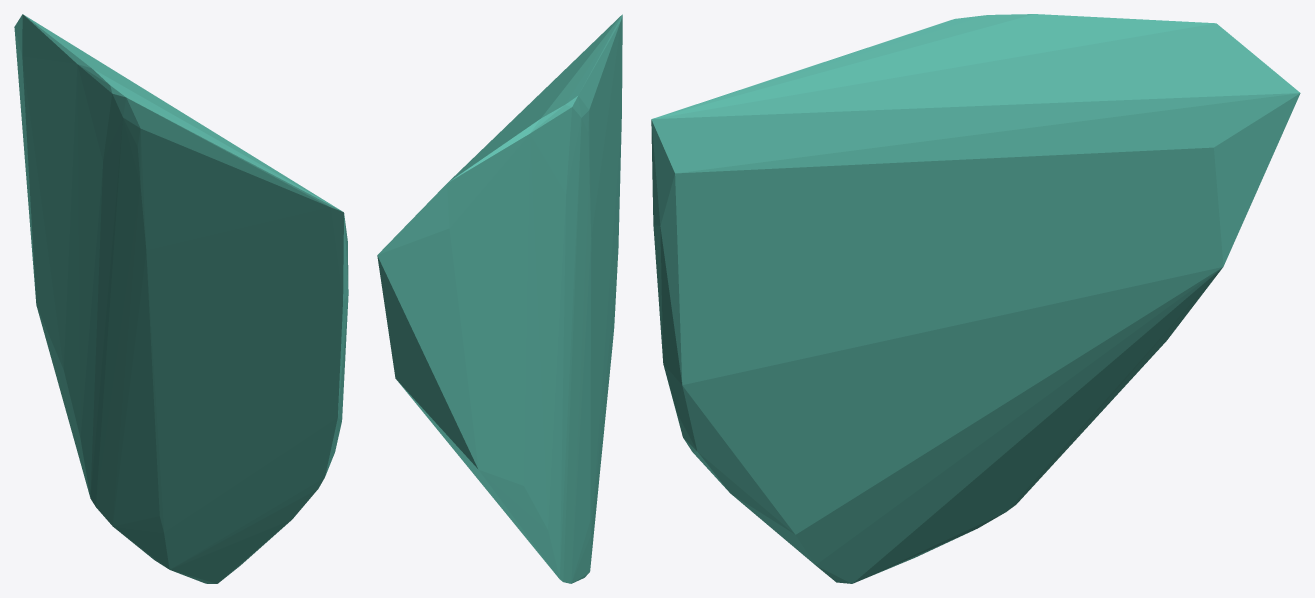
File: bodyPart_door_rear_a01.glb
3 views of the same model, side by side, from view 1: azimuth 30°, elevation 25°; view 2: azimuth 150°, elevation 25°; view 3: azimuth 270°, elevation 25° (orthographic). The views are drawn at different scales.
Visible parts, largest first — view 1: geometry_0; view 2: geometry_0; view 3: geometry_0.
Boxes of the visible parts, x1,y1,x2,y2 form: geometry_0: (14,14,348,583); geometry_0: (377,14,622,583); geometry_0: (651,14,1300,583).
Size of the model in its own units: 0.1123 by 0.4474 by 0.4793.
